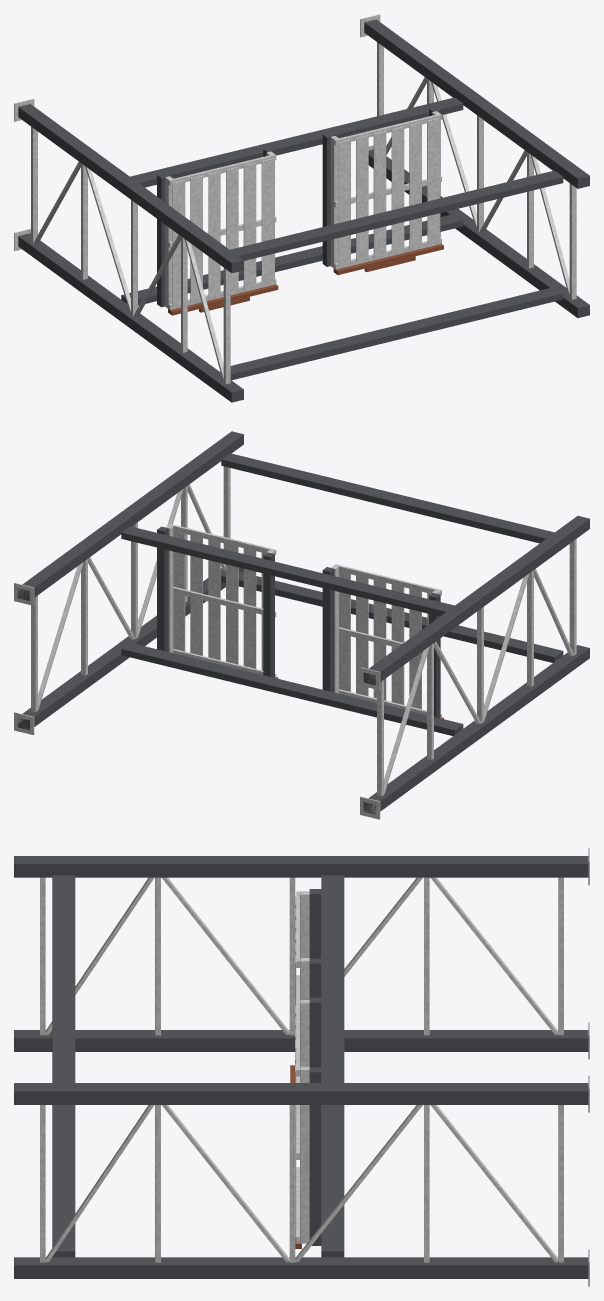
File: Storage__PalletRacking3.glb
3 renders of one model, top to bottom at view 1: azimuth 30°, elevation 25°; view 2: azimuth 150°, elevation 25°; view 3: azimuth 270°, elevation 25°, orthographic. The views are drawn at different scales.
Visible parts, largest first — view 1: /World/Storage/PalletRacking3/Visual/pallet_racking_bay_body, /World/Storage/PalletRacking3/Visual (×2); view 2: /World/Storage/PalletRacking3/Visual/pallet_racking_bay_body, /World/Storage/PalletRacking3/Visual; view 3: /World/Storage/PalletRacking3/Visual/pallet_racking_bay_body, /World/Storage/PalletRacking3/Visual.
Part boxes in pixels (<box>): /World/Storage/PalletRacking3/Visual/pallet_racking_bay_body: <box>18,19,589,402</box>; /World/Storage/PalletRacking3/Visual (×2): <box>14,14,576,384</box>; /World/Storage/PalletRacking3/Visual/pallet_racking_bay_body: <box>17,431,589,814</box>; /World/Storage/PalletRacking3/Visual: <box>14,466,576,819</box>; /World/Storage/PalletRacking3/Visual/pallet_racking_bay_body: <box>14,856,588,1278</box>; /World/Storage/PalletRacking3/Visual: <box>40,848,589,1286</box>.
Bounding box in the file's own units: 2.96 × 1.14 × 3.
3 materials, 1 textured.
